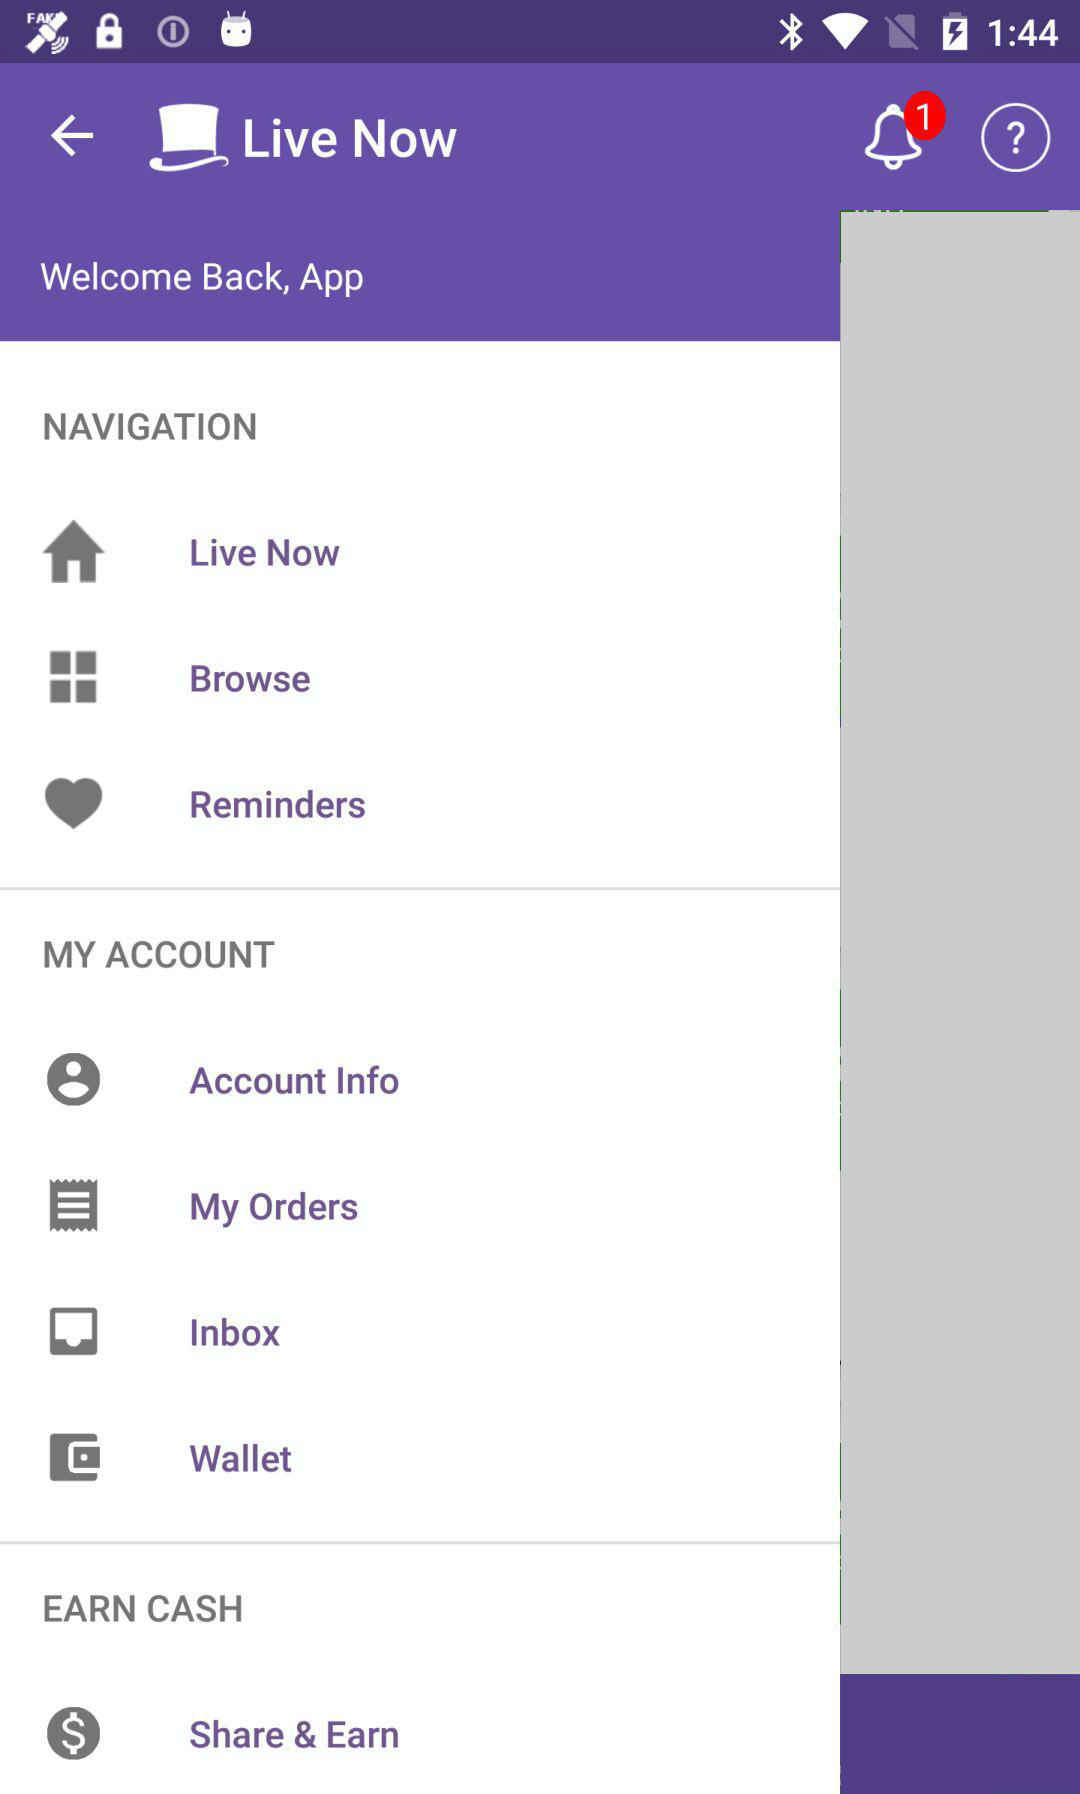Drawer: (1, 211, 840, 1794)
Icon: (863, 88, 948, 173), (979, 103, 1053, 176), (42, 518, 108, 586), (47, 1051, 102, 1108), (45, 777, 104, 830), (46, 1706, 102, 1759), (49, 1178, 100, 1234), (49, 648, 99, 705), (49, 1433, 102, 1483), (49, 1306, 100, 1357), (49, 114, 96, 159)
Image: (149, 103, 231, 174)
Text: (37, 258, 365, 302), (243, 117, 460, 161), (41, 409, 259, 443), (44, 939, 277, 971), (190, 1064, 401, 1097), (190, 1189, 360, 1230), (190, 1718, 401, 1750), (41, 1592, 243, 1624), (190, 787, 368, 821), (190, 538, 343, 569), (190, 662, 313, 695), (188, 1442, 293, 1476), (190, 1316, 283, 1349)
Toolbar: (1, 64, 1079, 211)
UpperTaskBar: (1, 1, 1080, 64)
